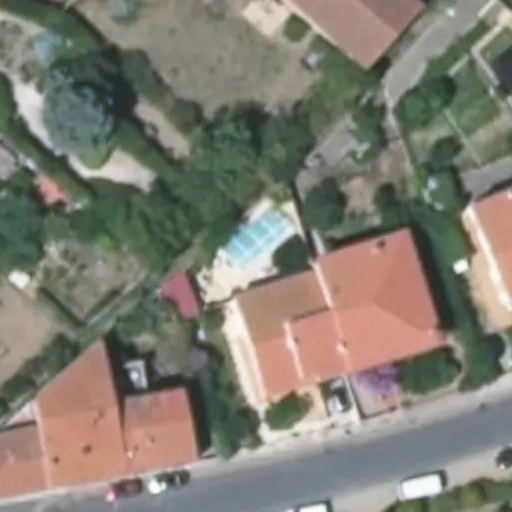pool: (219, 206, 291, 266)
